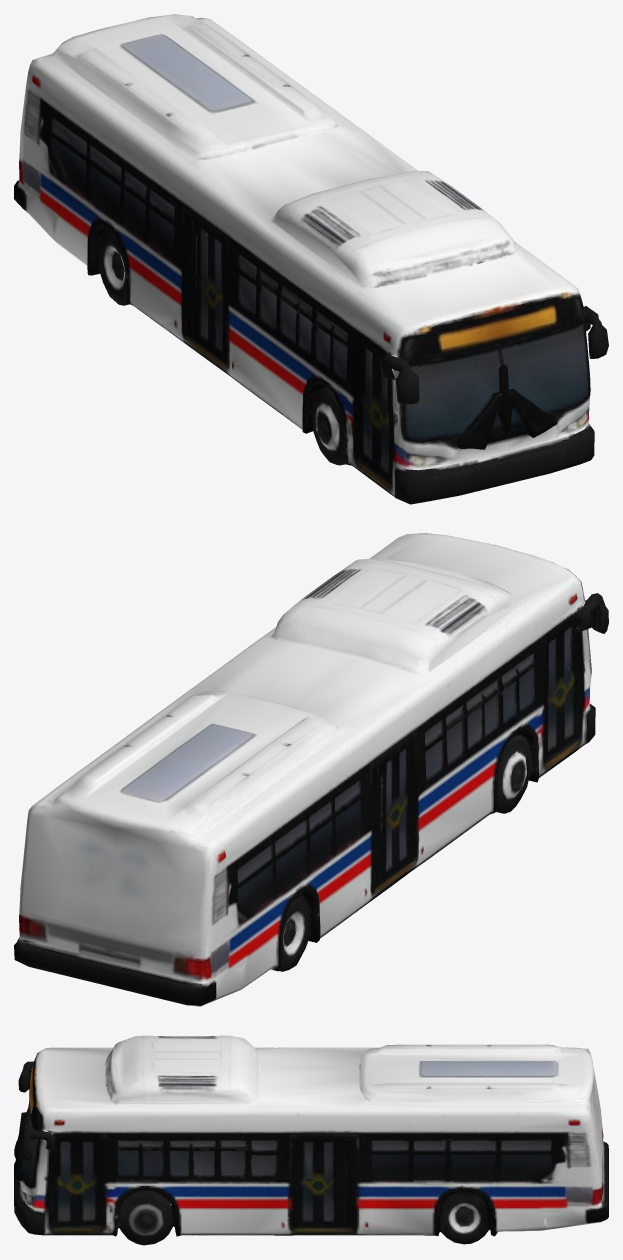
File: cta_bus.glb
3 renders of one model, top to bottom at view 1: azimuth 30°, elevation 25°; view 2: azimuth 150°, elevation 25°; view 3: azimuth 270°, elevation 25°, orthographic. The views are drawn at different scales.
Parts seen in each view (by area): view 1: cta_bus; view 2: cta_bus; view 3: cta_bus.
Boxes of the visible parts, box(x1,y1,x2,y2) form: cta_bus: box(14, 14, 608, 504); cta_bus: box(14, 533, 608, 1006); cta_bus: box(14, 1035, 608, 1245).
Bounding box in the file's own units: 3.59 × 3.54 × 12.05.
Materials: 1 (1 with a texture image).
